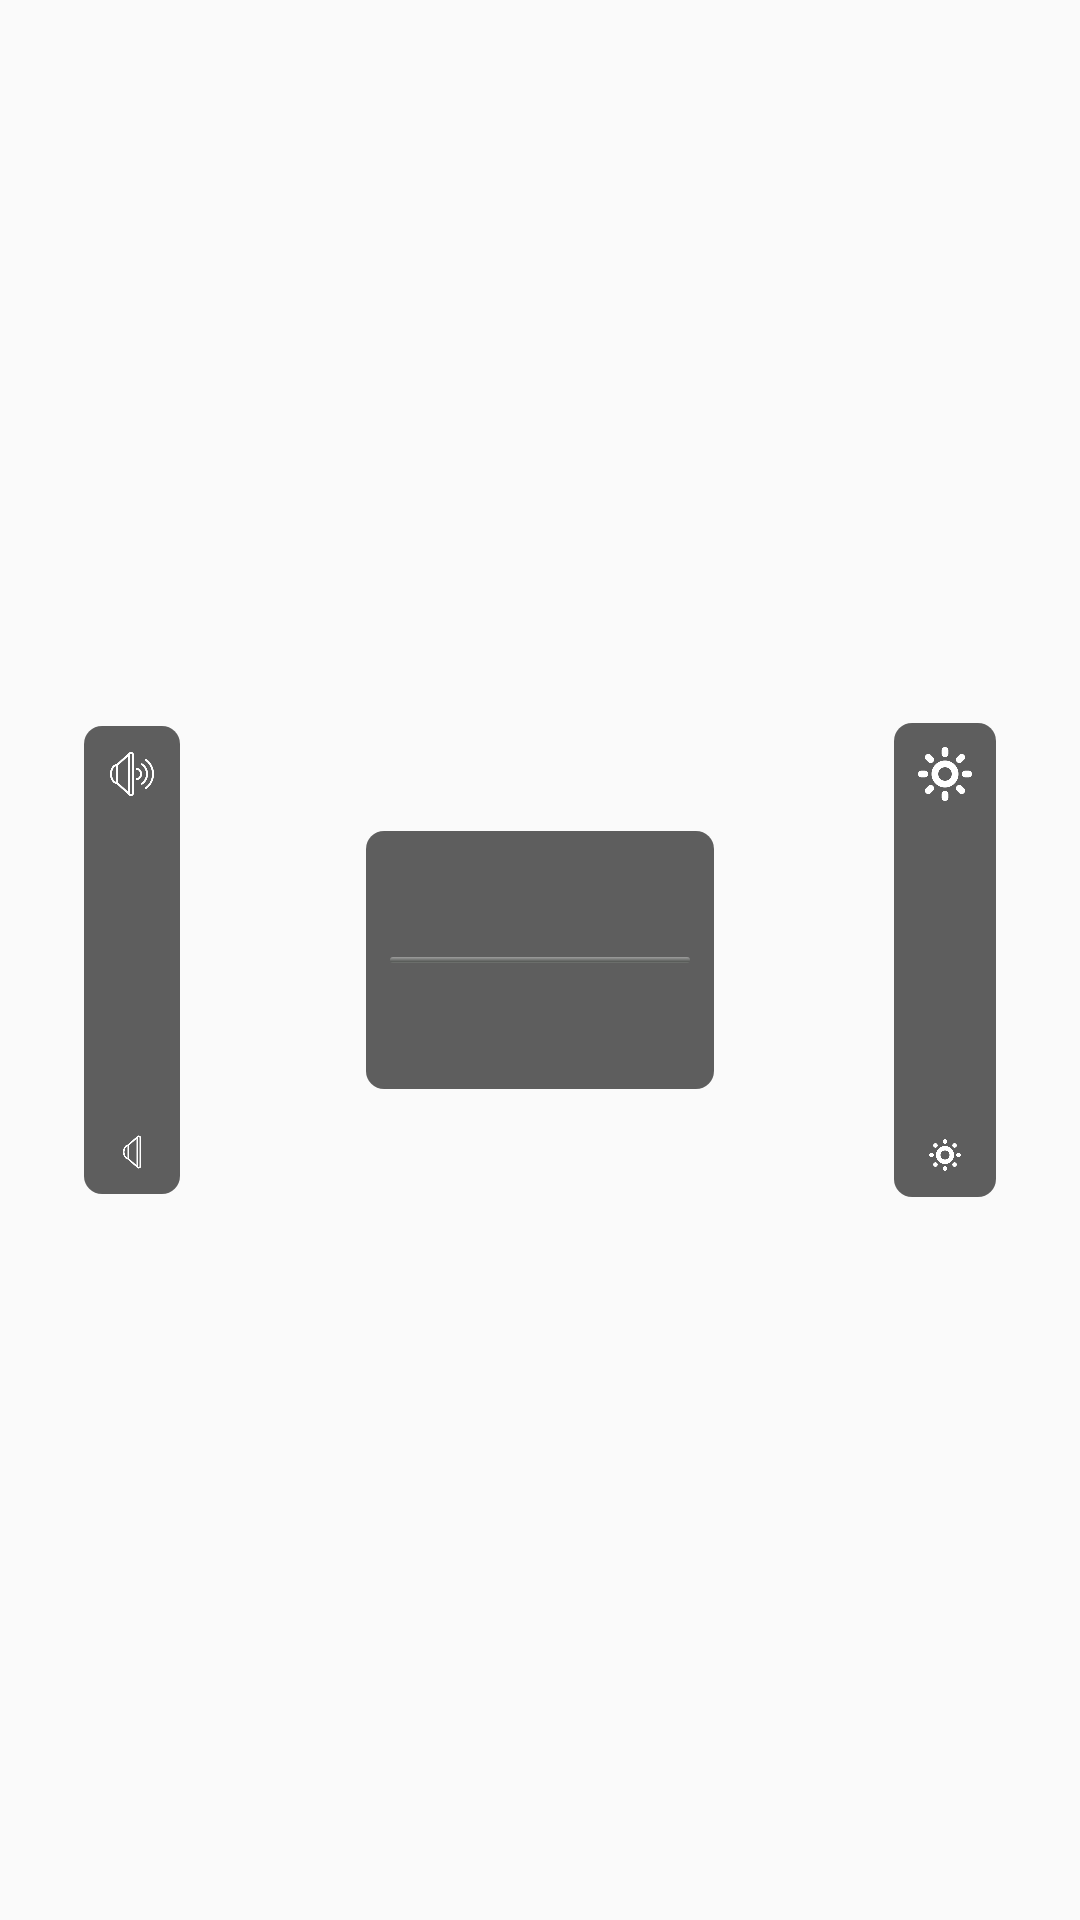

Named icons in this screenshot (1080×1920) and their bounding boxes, box(x1, y1, x2, y2):
audio high: box(110, 752, 154, 796)
audio low: box(123, 1135, 141, 1169)
brightness high: box(918, 747, 972, 801)
brightness low: box(929, 1139, 961, 1171)
